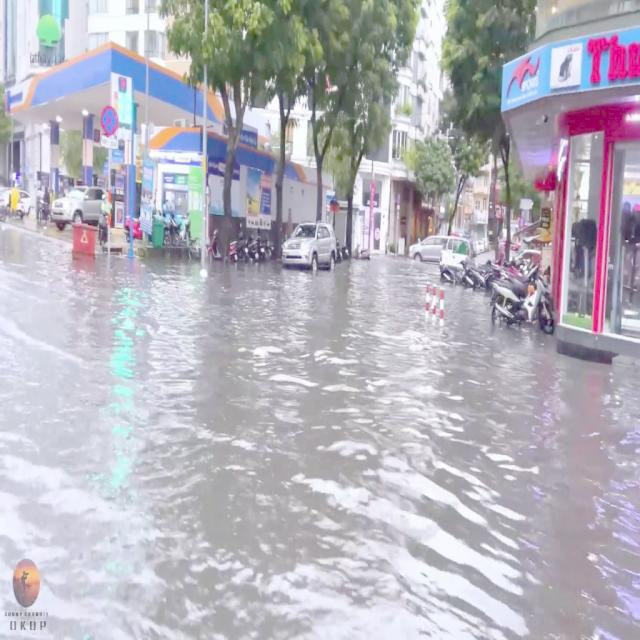cam_do_xe: (519, 217, 525, 227)
cam_dung_xe_va_do_xe: (101, 104, 118, 136)
cam_re_trai: (496, 202, 504, 219)
khac: (101, 135, 118, 149)
